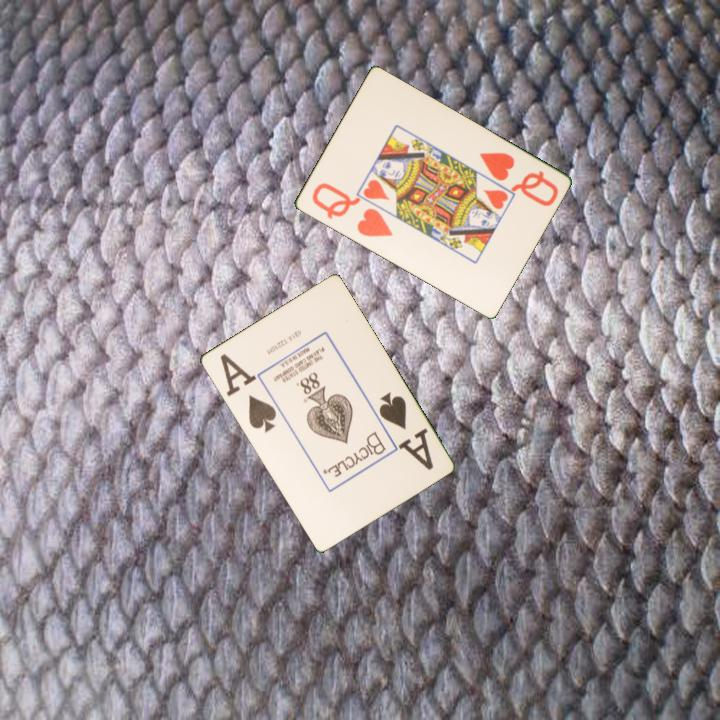As: (375, 388, 436, 473), (222, 358, 279, 436)
Qh: (308, 179, 395, 240), (475, 149, 561, 209)
